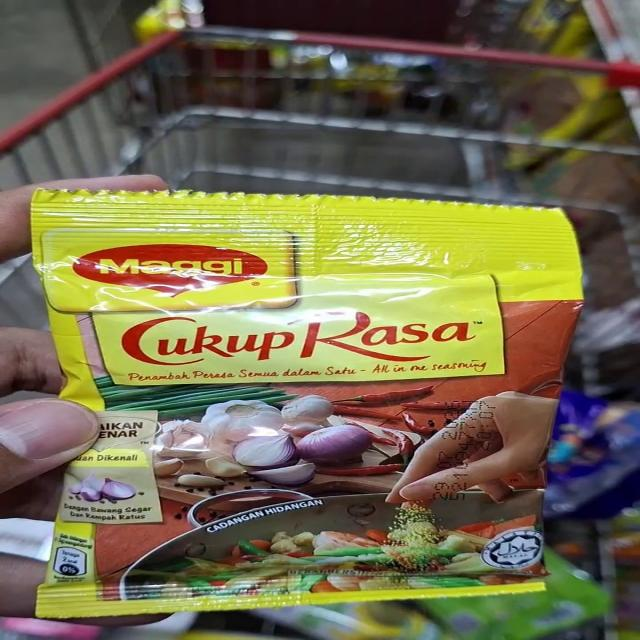Maggi Cukup Rasa: (28, 185, 563, 611)
